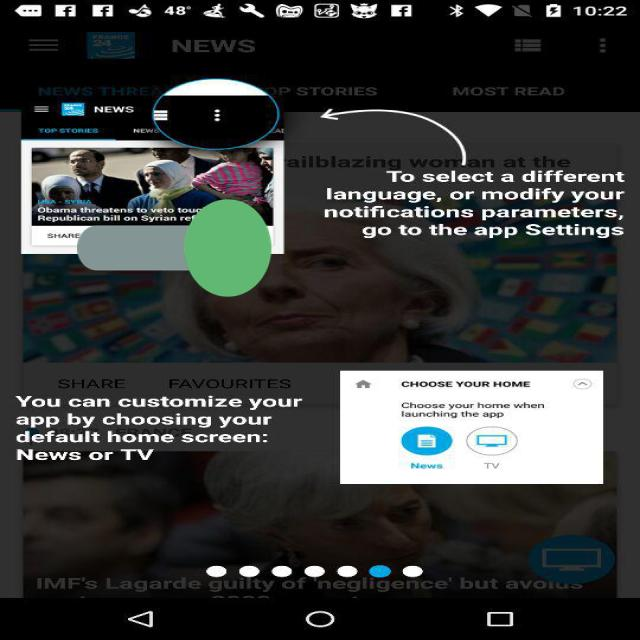social proof: (77, 139, 271, 357)
